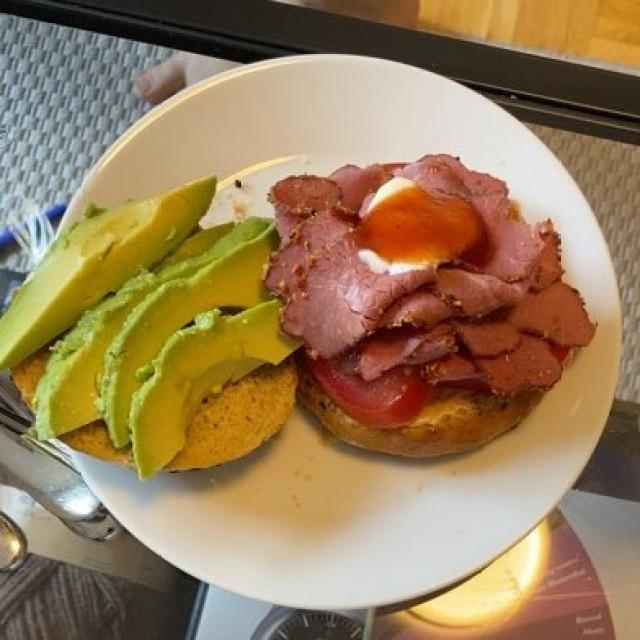avocado: (4, 176, 297, 479)
bun: (43, 343, 540, 474)
sauce: (351, 173, 479, 272)
tomato: (329, 360, 427, 418)
